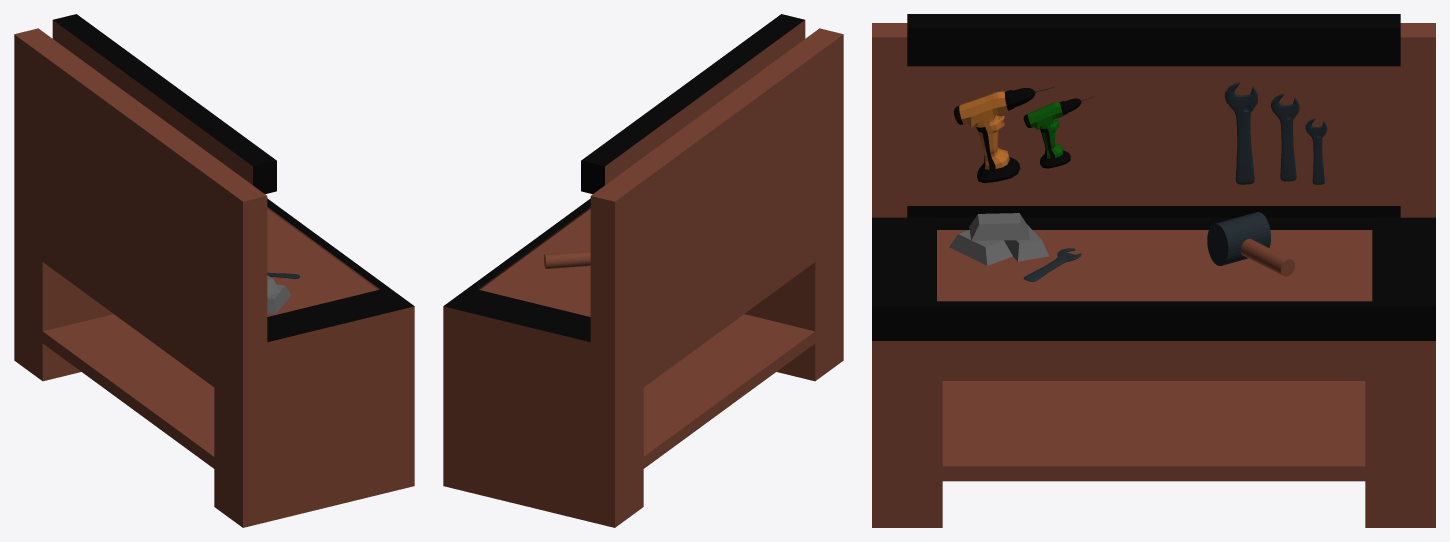
The model's file is Crafting Bench.fbx.
3 renders of one model, left to right at view 1: azimuth 30°, elevation 25°; view 2: azimuth 150°, elevation 25°; view 3: azimuth 270°, elevation 25°, orthographic. The views are drawn at different scales.
Visible parts, largest first — view 1: Workbench; view 2: Workbench, Hammer; view 3: Workbench, Drill, Cylinder, Wrench, Drill.001, Cube.002, Wrench.001, Cube, Hammer, IronMatt, Wrench.002.
Part boxes in pixels (x1,y1,x2,y2): Workbench: [14, 14, 414, 527]; Workbench: [443, 14, 843, 527]; Hammer: [544, 251, 590, 268]; Workbench: [872, 14, 1435, 527]; Drill: [953, 86, 1055, 183]; Cylinder: [1207, 212, 1270, 265]; Wrench: [1224, 82, 1257, 184]; Drill.001: [1023, 96, 1094, 168]; Cube.002: [969, 213, 1029, 241]; Wrench.001: [1271, 93, 1299, 181]; Cube: [949, 230, 1012, 265]; Hammer: [1240, 239, 1294, 276]; IronMatt: [1004, 224, 1048, 261]; Wrench.002: [1305, 118, 1327, 184].
Bounding box in the file's own units: 200 × 384 × 462.
